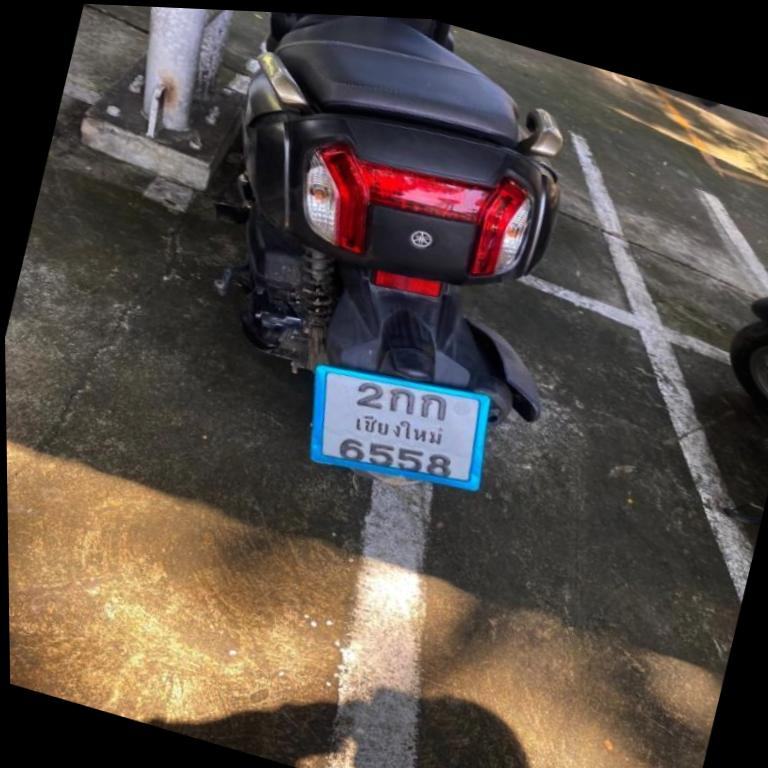license plate: (294, 348, 507, 504)
